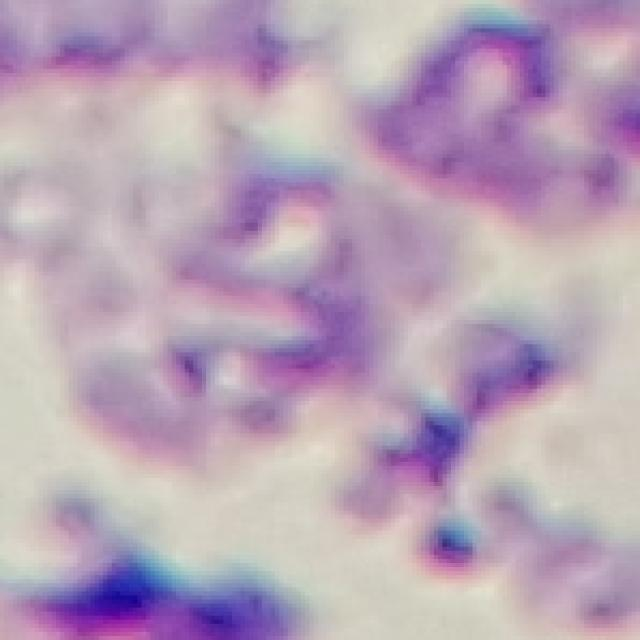non-sperm: (171, 151, 405, 426)
